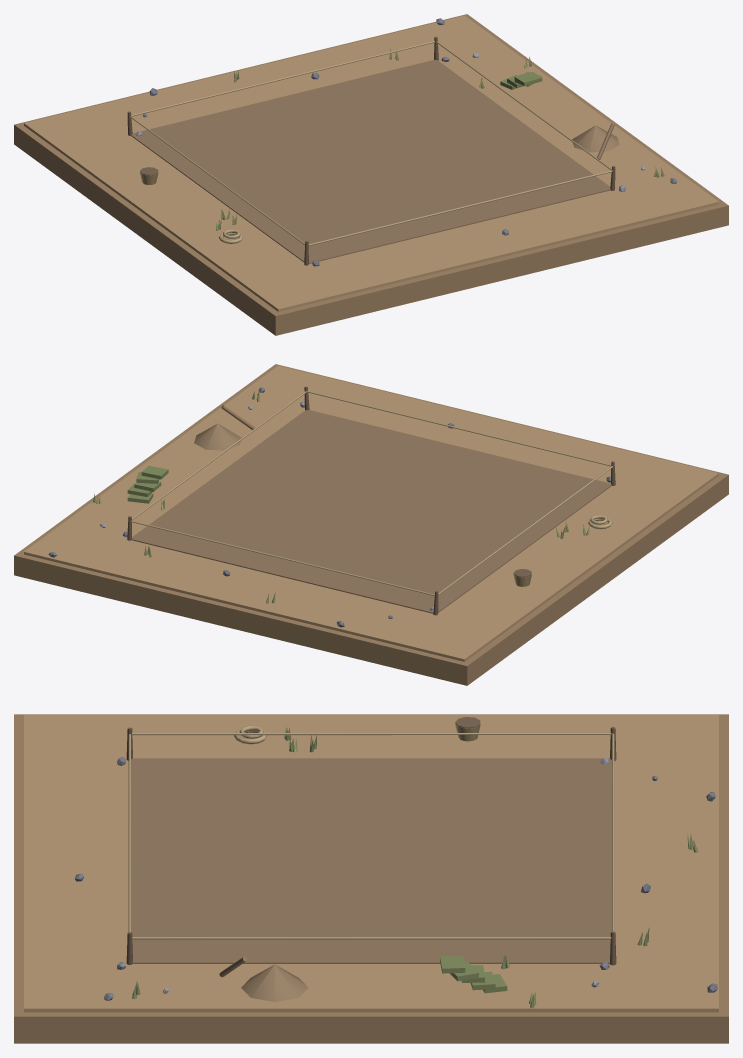
Rendered from num-s-site.glb.
3 views of the same model, one above another, from view 1: azimuth 30°, elevation 25°; view 2: azimuth 150°, elevation 25°; view 3: azimuth 270°, elevation 25° (orthographic). The views are drawn at different scales.
Visible parts, largest first — view 1: era1; view 2: era1; view 3: era1.
Part boxes in pixels (left/top/right/bottom): era1: left=14, top=14, right=728, bottom=335; era1: left=14, top=364, right=728, bottom=685; era1: left=14, top=714, right=728, bottom=1043.
Bounding box in the file's own units: 21.6 × 2.18 × 21.6.
